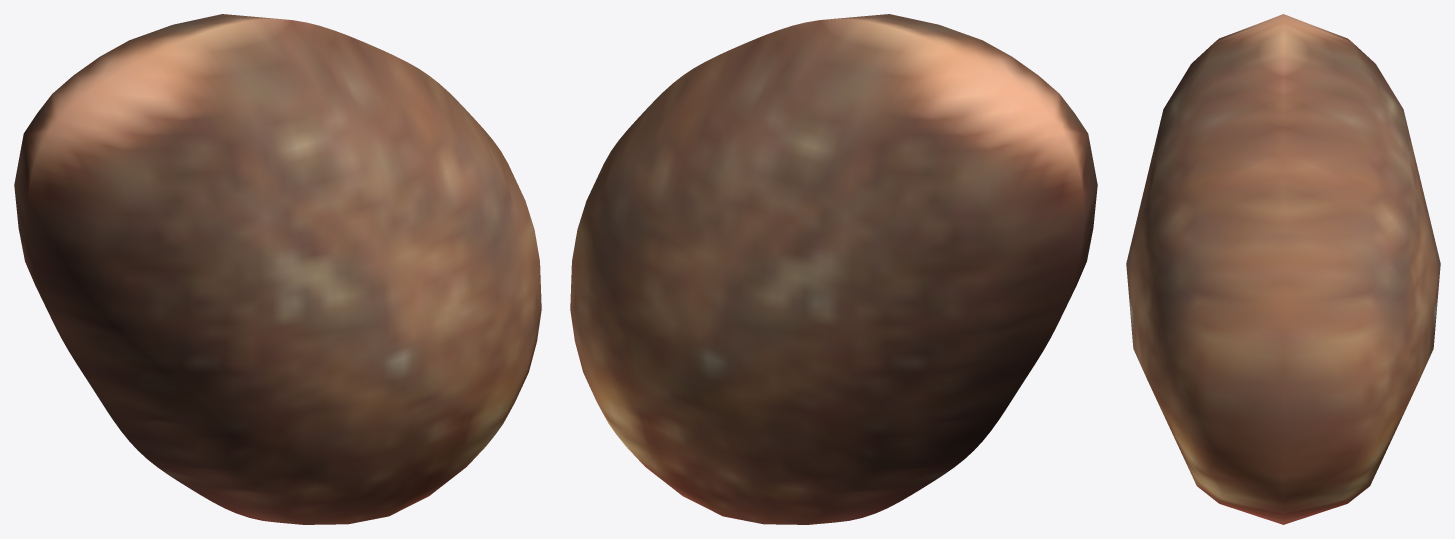
Rendered from Seco (1).glb.
3 renders of one model, left to right at view 1: azimuth 30°, elevation 25°; view 2: azimuth 150°, elevation 25°; view 3: azimuth 270°, elevation 25°, orthographic. The views are drawn at different scales.
Parts seen in each view (by area): view 1: mm_frame.004; view 2: mm_frame.004; view 3: mm_frame.004.
Part boxes in pixels (<box>): mm_frame.004: <box>14,14,541,524</box>; mm_frame.004: <box>570,14,1097,524</box>; mm_frame.004: <box>1126,14,1440,524</box>.
Bounding box in the file's own units: 0.4917 × 0.4891 × 0.3285.
1 material, 1 textured.
